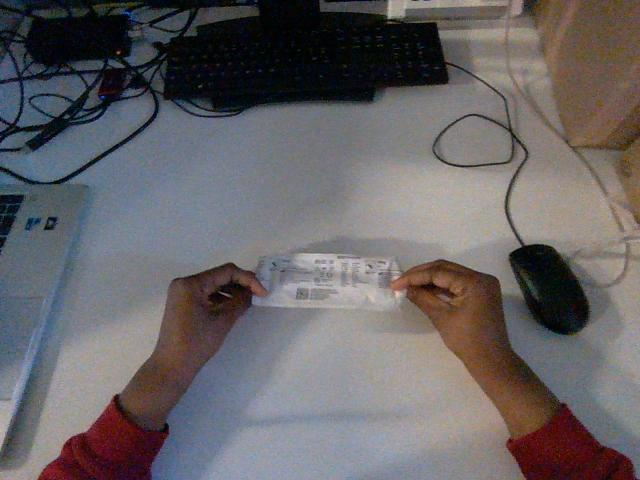syringe: (253, 253, 403, 310)
